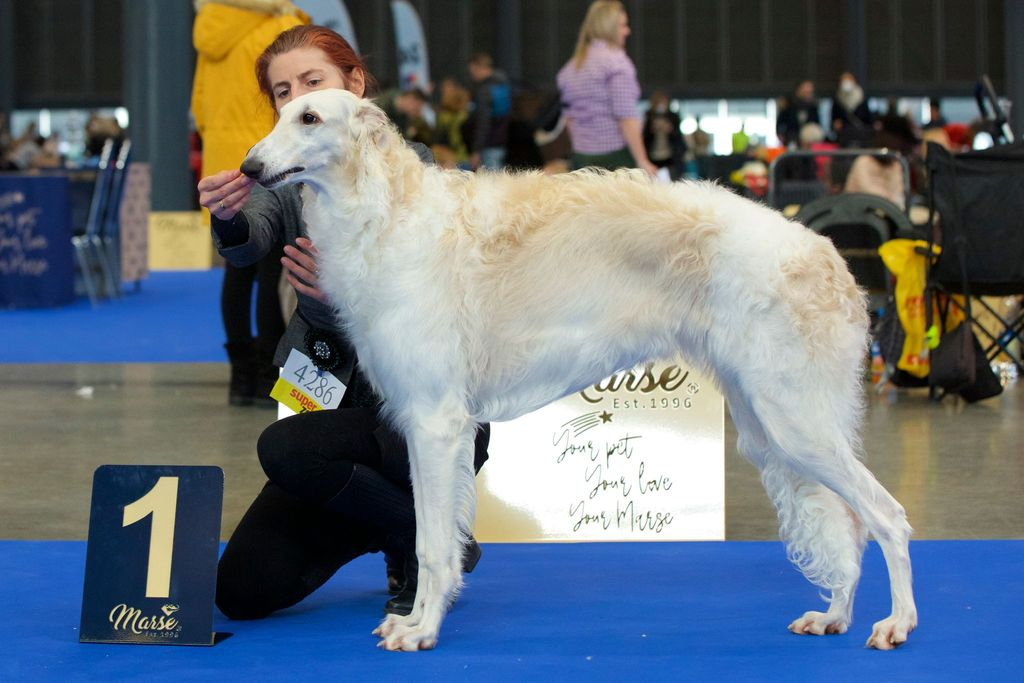borzoi: (232, 88, 924, 652)
